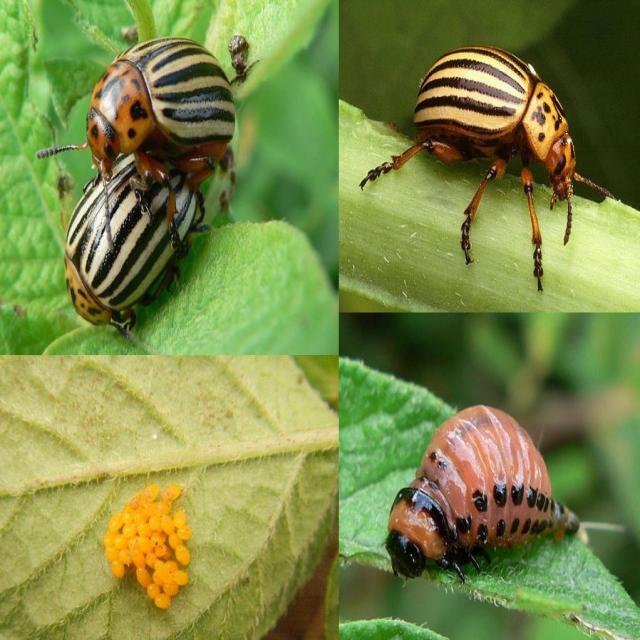ShuCaiHuaBanChong-Grown-: (393, 40, 588, 217), (58, 162, 219, 334), (82, 28, 246, 174)
ShuCaiHuaBanChong-Larva-: (382, 399, 576, 587)
